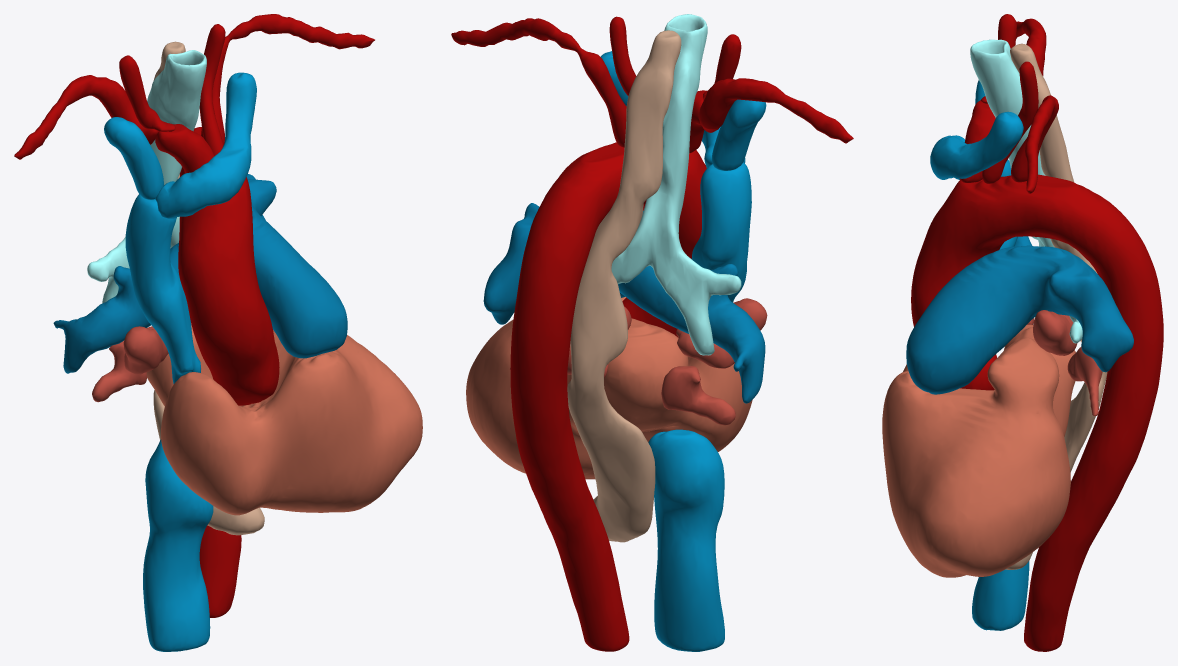
Rendered from te-fistula-updated-2026-05-25.glb.
3 views of the same model, side by side, from view 1: azimuth 30°, elevation 25°; view 2: azimuth 150°, elevation 25°; view 3: azimuth 270°, elevation 25° (orthographic). The views are drawn at different scales.
Parts seen in each view (by area): view 1: heart, aorta, pulmonary artery, inferior vena cava, superior_vena_cava, left brachiocephalic vein, Airway, right subclavian artery, left subclavian artery, pulmonary venous system, right brachiocephalic vein, left common carotid artery (+3 smaller); view 2: aorta, Esophagus, heart, inferior vena cava, Airway, pulmonary artery, superior_vena_cava, pulmonary venous system, left subclavian artery, right subclavian artery, right brachiocephalic vein, left common carotid artery (+3 smaller); view 3: heart, aorta, pulmonary artery, Esophagus, Airway, left brachiocephalic vein, inferior vena cava, pulmonary venous system, left subclavian artery, left common carotid artery, brachiocephalic trunk, right subclavian artery (+1 smaller).
Boxes of the visible parts, x1,y1,x2,y2 form: heart: [146, 323, 422, 515]; aorta: [178, 127, 279, 617]; pulmonary artery: [53, 174, 347, 373]; inferior vena cava: [143, 439, 213, 651]; superior_vena_cava: [125, 194, 200, 383]; left brachiocephalic vein: [155, 72, 256, 218]; Airway: [87, 50, 206, 303]; right subclavian artery: [14, 75, 158, 159]; left subclavian artery: [201, 14, 374, 144]; pulmonary venous system: [92, 326, 168, 402]; right brachiocephalic vein: [104, 117, 163, 199]; left common carotid artery: [199, 24, 225, 155]; aorta: [510, 142, 706, 651]; Esophagus: [567, 30, 681, 542]; heart: [466, 297, 752, 479]; inferior vena cava: [648, 429, 724, 651]; Airway: [611, 14, 741, 355]; pulmonary artery: [483, 203, 765, 403]; superior_vena_cava: [691, 162, 751, 302]; pulmonary venous system: [509, 298, 767, 425]; left subclavian artery: [451, 18, 626, 147]; right subclavian artery: [698, 78, 853, 143]; right brachiocephalic vein: [711, 99, 766, 170]; left common carotid artery: [609, 16, 636, 95]; heart: [882, 324, 1075, 577]; aorta: [911, 174, 1163, 651]; pulmonary artery: [906, 236, 1133, 394]; Esophagus: [1005, 43, 1107, 569]; Airway: [970, 39, 1082, 343]; left brachiocephalic vein: [930, 111, 1023, 179]; inferior vena cava: [972, 561, 1029, 630]; pulmonary venous system: [1027, 310, 1102, 416]; left subclavian artery: [1011, 95, 1058, 193]; left common carotid artery: [982, 61, 1038, 183]; brachiocephalic trunk: [959, 100, 995, 182]; right subclavian artery: [1016, 18, 1046, 75].
Size of the model in its own units: 0.1817 by 0.2712 by 0.1184.
